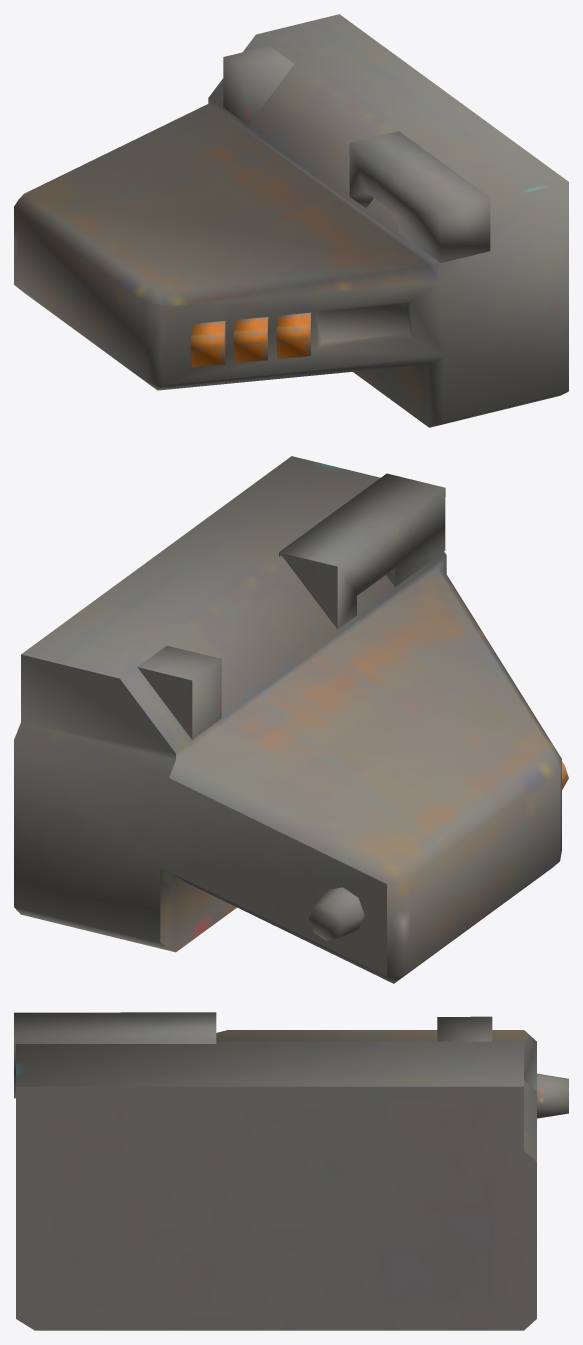
File: acc5.obj
3 views of the same model, one above another, from view 1: azimuth 30°, elevation 25°; view 2: azimuth 150°, elevation 25°; view 3: azimuth 270°, elevation 25° (orthographic). The views are drawn at different scales.
Parts seen in each view (by area): view 1: acc5; view 2: acc5; view 3: acc5.
Boxes of the visible parts, x1,y1,x2,y2 form: acc5: [14, 14, 568, 427]; acc5: [14, 456, 568, 983]; acc5: [14, 1012, 568, 1330].
Bounding box in the file's own units: 9.35 × 6.15 × 12.45.
